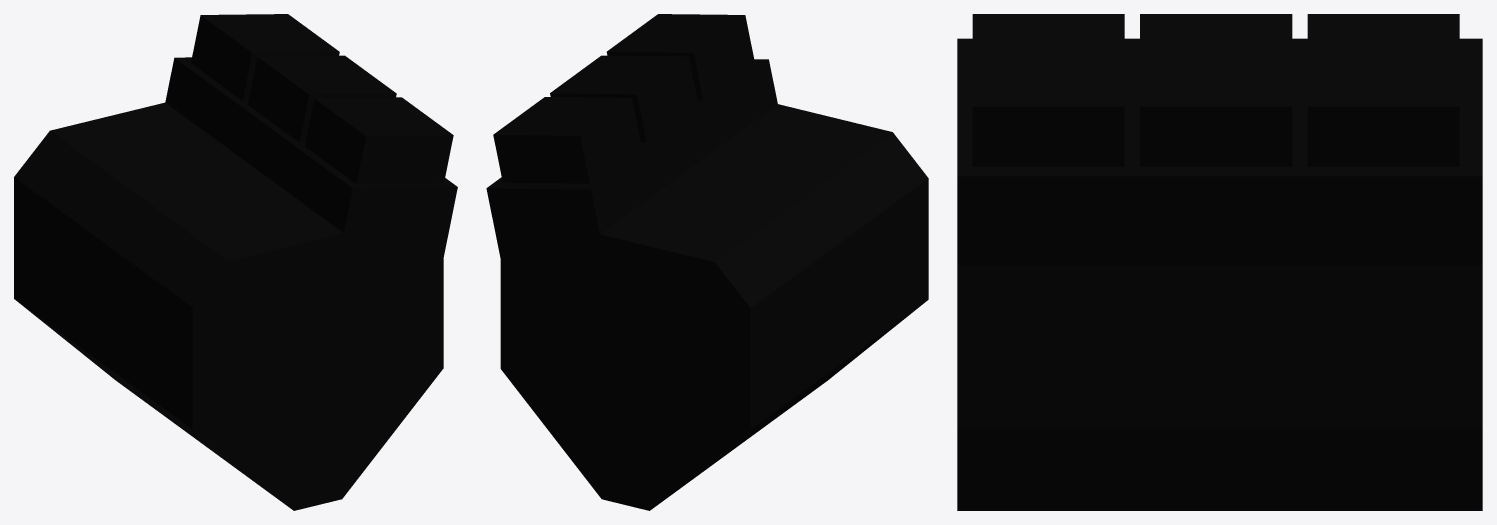
The model's file is v3performante.obj.
3 views of the same model, side by side, from view 1: azimuth 30°, elevation 25°; view 2: azimuth 150°, elevation 25°; view 3: azimuth 270°, elevation 25° (orthographic). The views are drawn at different scales.
Parts seen in each view (by area): view 1: cube; view 2: cube; view 3: cube.
Part boxes in pixels (x1,y1,x2,y2): cube: [14, 14, 457, 510]; cube: [486, 14, 928, 510]; cube: [957, 14, 1482, 510].
Bounding box in the file's own units: 0.4359 × 0.5508 × 0.5063.
